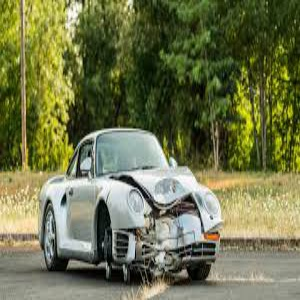bonnet: (134, 166, 198, 212)
